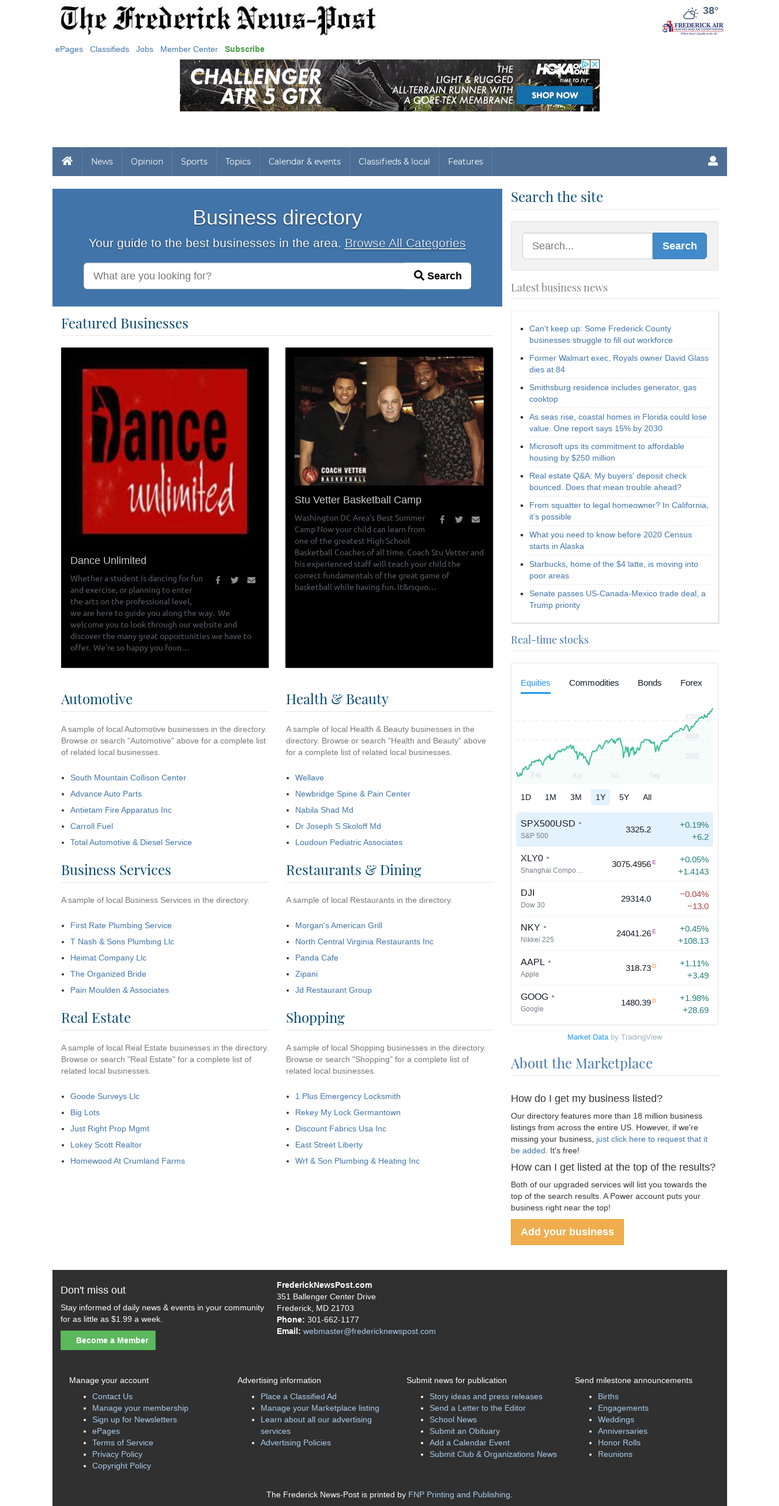fake_button: (511, 80, 600, 112)
